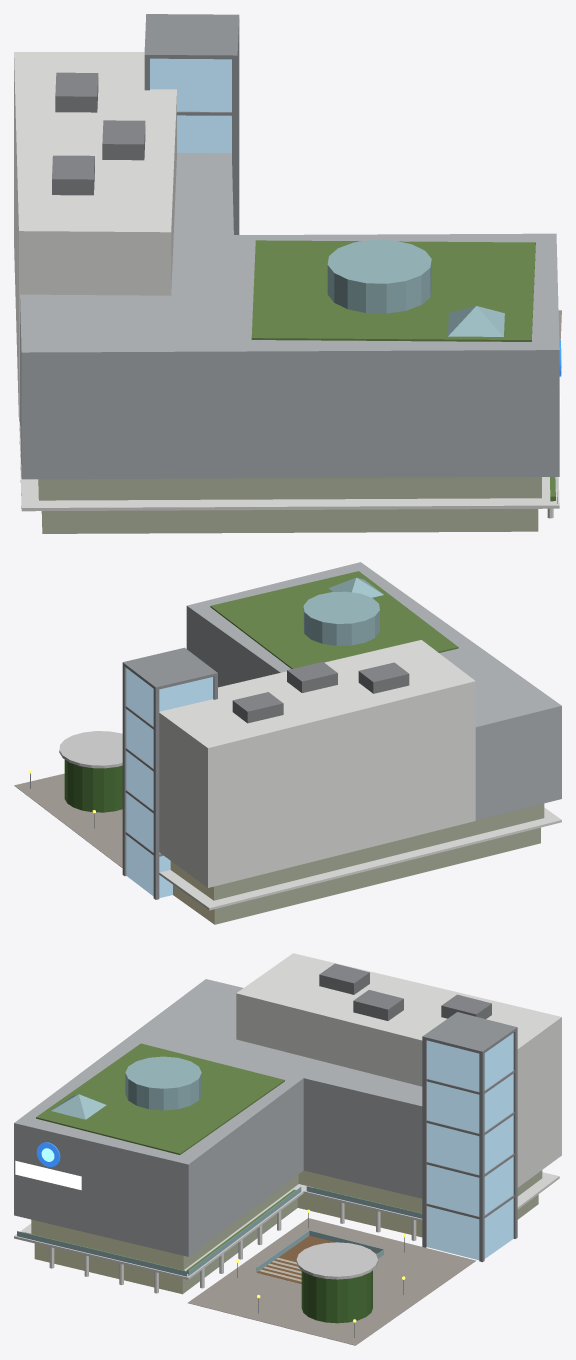
File: tiger_city.glb
3 views of the same model, one above another, from view 1: azimuth 30°, elevation 25°; view 2: azimuth 150°, elevation 25°; view 3: azimuth 270°, elevation 25° (orthographic). The views are drawn at different scales.
Visible parts, largest first — view 1: body_upper, body_cinema_box, roof_garden, body_ground_floor_shops, body_2f_terrace_floor, roof_glass_rotunda, body_2f_slab, glass_tower, glass_tower_cap, roof_mech_unit_2, roof_mech_unit_0, roof_mech_unit_1 (+2 smaller); view 2: body_cinema_box, body_upper, roof_garden, glass_tower, body_ground_floor_shops, body_2f_terrace_floor, body_2f_slab, roof_glass_rotunda, plaza_paving, green_wall_pavilion, glass_tower_cap, green_wall_pavilion_roof_disc (+6 smaller); view 3: body_upper, body_cinema_box, glass_tower, plaza_paving, roof_garden, body_2f_terrace_floor, body_ground_floor_shops, roof_glass_rotunda, green_wall_pavilion, body_2f_slab, green_wall_pavilion_roof_disc, glass_tower_cap (+12 smaller).
Part boxes in pixels (<box>): body_upper: <box>20,153,559,479</box>; body_cinema_box: <box>14,52,176,421</box>; roof_garden: <box>251,240,535,341</box>; body_ground_floor_shops: <box>41,509,538,533</box>; body_2f_terrace_floor: <box>38,477,541,500</box>; roof_glass_rotunda: <box>327,240,431,313</box>; body_2f_slab: <box>19,421,559,511</box>; glass_tower: <box>150,58,231,153</box>; glass_tower_cap: <box>144,14,239,59</box>; roof_mech_unit_2: <box>55,72,98,112</box>; roof_mech_unit_0: <box>52,155,94,195</box>; roof_mech_unit_1: <box>102,120,145,160</box>; body_cinema_box: <box>159,640,475,887</box>; body_upper: <box>186,562,561,820</box>; roof_garden: <box>210,571,458,668</box>; glass_tower: <box>126,668,213,897</box>; body_ground_floor_shops: <box>173,827,540,924</box>; body_2f_terrace_floor: <box>170,803,544,900</box>; body_2f_slab: <box>159,807,561,910</box>; roof_glass_rotunda: <box>303,591,379,645</box>; plaza_paving: <box>14,773,122,867</box>; green_wall_pavilion: <box>64,760,122,812</box>; glass_tower_cap: <box>122,647,217,689</box>; green_wall_pavilion_roof_disc: <box>59,731,122,768</box>; body_upper: <box>14,979,422,1256</box>; body_cinema_box: <box>236,953,561,1187</box>; glass_tower: <box>427,1033,513,1260</box>; plaza_paving: <box>188,1218,475,1345</box>; roof_garden: <box>36,1043,284,1154</box>; body_2f_terrace_floor: <box>31,1170,542,1269</box>; body_ground_floor_shops: <box>34,1193,538,1294</box>; roof_glass_rotunda: <box>125,1056,201,1110</box>; green_wall_pavilion: <box>301,1270,372,1323</box>; body_2f_slab: <box>14,1172,559,1279</box>; green_wall_pavilion_roof_disc: <box>296,1242,377,1279</box>; glass_tower_cap: <box>422,1012,517,1053</box>.
Bounding box in the file's own units: 106 × 45.6 × 108.
